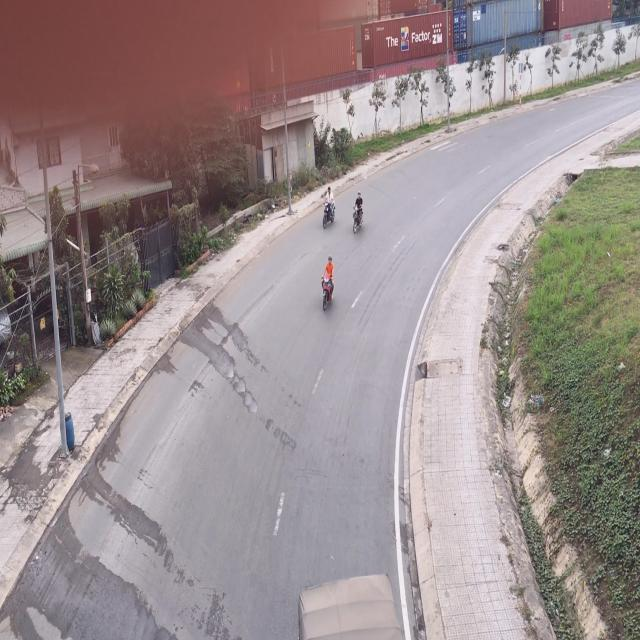motorbike: (320, 258, 336, 314), (351, 192, 366, 240), (322, 189, 336, 231)
